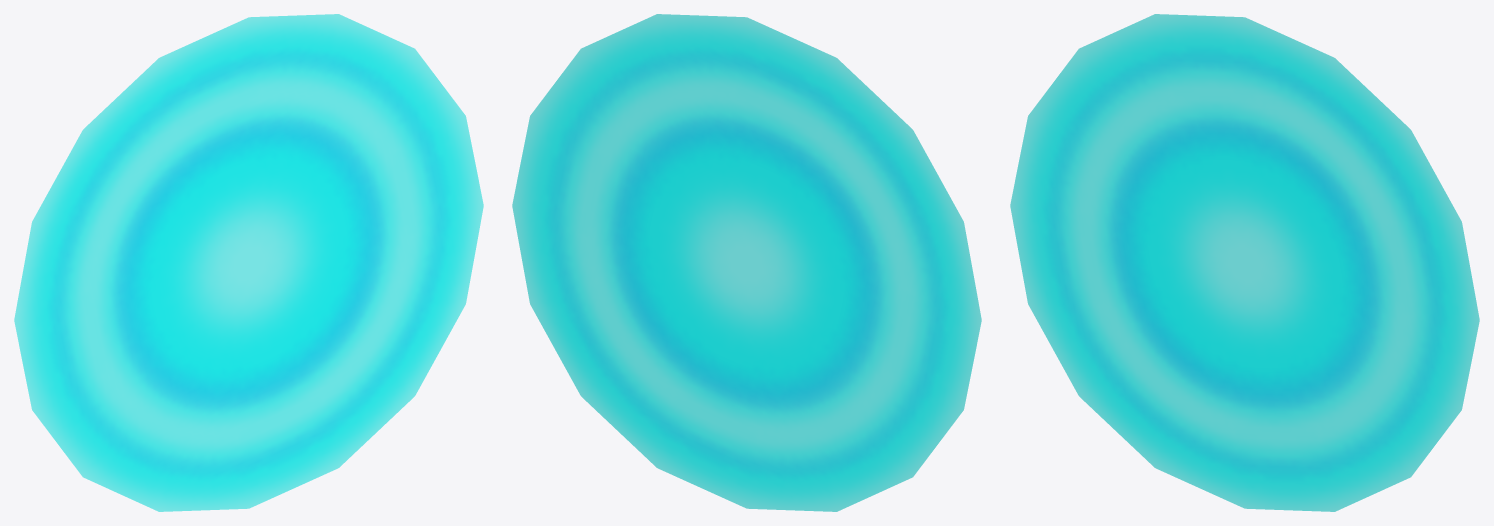
The model's file is finalBoss-marker4.glb.
The picture shows the model from 3 angles, left to right: view 1: azimuth 30°, elevation 25°; view 2: azimuth 150°, elevation 25°; view 3: azimuth 330°, elevation 25°; orthographic projection.
Parts seen in each view (by area): view 1: finalBoss-marker4; view 2: finalBoss-marker4; view 3: finalBoss-marker4.
Boxes of the visible parts, left/top/right/bottom form: finalBoss-marker4: left=14, top=14, right=483, bottom=511; finalBoss-marker4: left=512, top=14, right=981, bottom=511; finalBoss-marker4: left=1010, top=14, right=1479, bottom=511.
Size of the model in its own units: 0.2705 by 0.2705 by 1.19e-07.
1 material, 1 textured.
